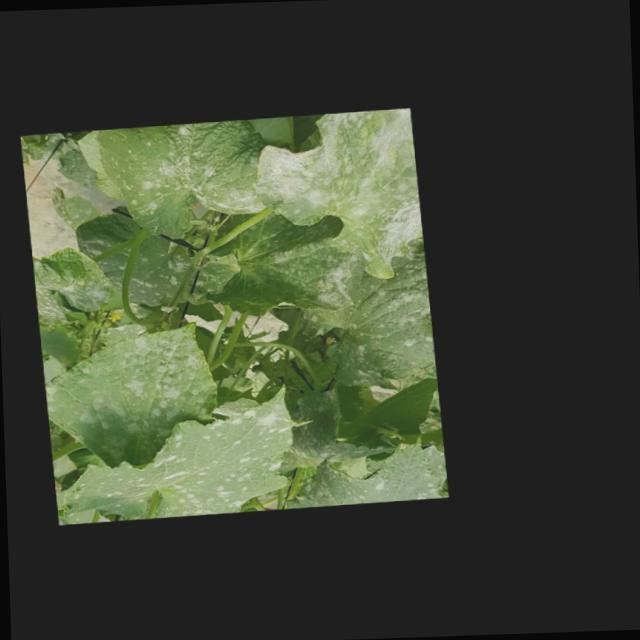Powdery_Mildew: (24, 106, 456, 523)
